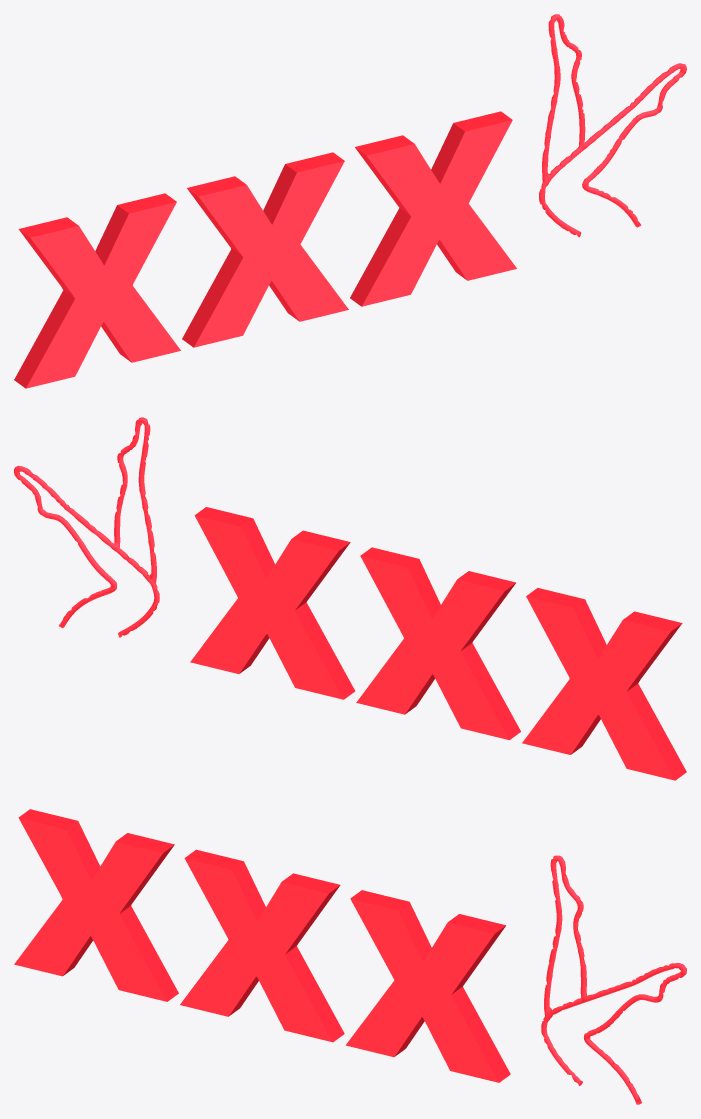
File: neon_club_xxx.glb
3 renders of one model, top to bottom at view 1: azimuth 30°, elevation 25°; view 2: azimuth 150°, elevation 25°; view 3: azimuth 330°, elevation 25°, orthographic.
Parts seen in each view (by area): view 1: club_xxx; view 2: club_xxx; view 3: club_xxx.
Part boxes in pixels (<box>): club_xxx: <box>14,14,686,388</box>; club_xxx: <box>14,417,686,780</box>; club_xxx: <box>14,809,686,1104</box>.
Size of the model in its own units: 3 by 1 by 0.0929.
